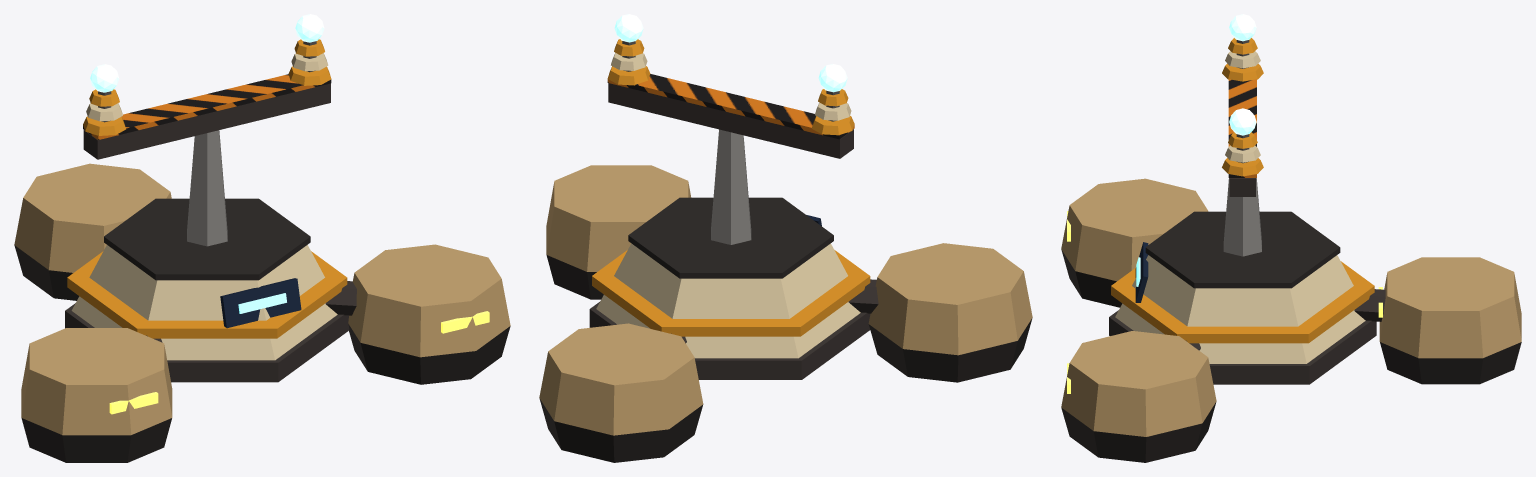
Rendered from vedeni-kotva.glb.
3 renders of one model, left to right at view 1: azimuth 30°, elevation 25°; view 2: azimuth 150°, elevation 25°; view 3: azimuth 270°, elevation 25°, orthographic. The views are drawn at different scales.
Parts seen in each view (by area): view 1: vedeni-kotva; view 2: vedeni-kotva; view 3: vedeni-kotva.
Part boxes in pixels (bbox=[...]): vedeni-kotva: bbox=[14, 14, 510, 462]; vedeni-kotva: bbox=[539, 14, 1032, 462]; vedeni-kotva: bbox=[1061, 14, 1521, 462].
Bounding box in the file's own units: 3.56 × 2.28 × 3.18.
12 materials, 1 textured.
